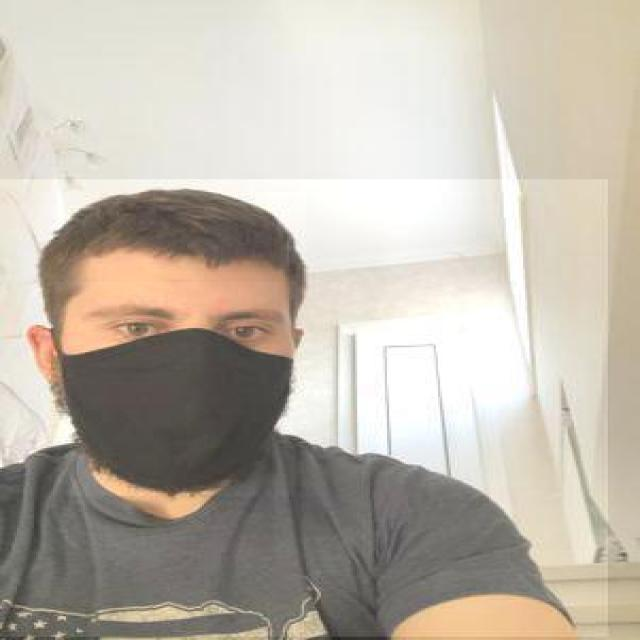face_mask: (55, 282, 296, 496)
head_nohelmet: (38, 192, 306, 280)
person: (0, 180, 610, 638)
